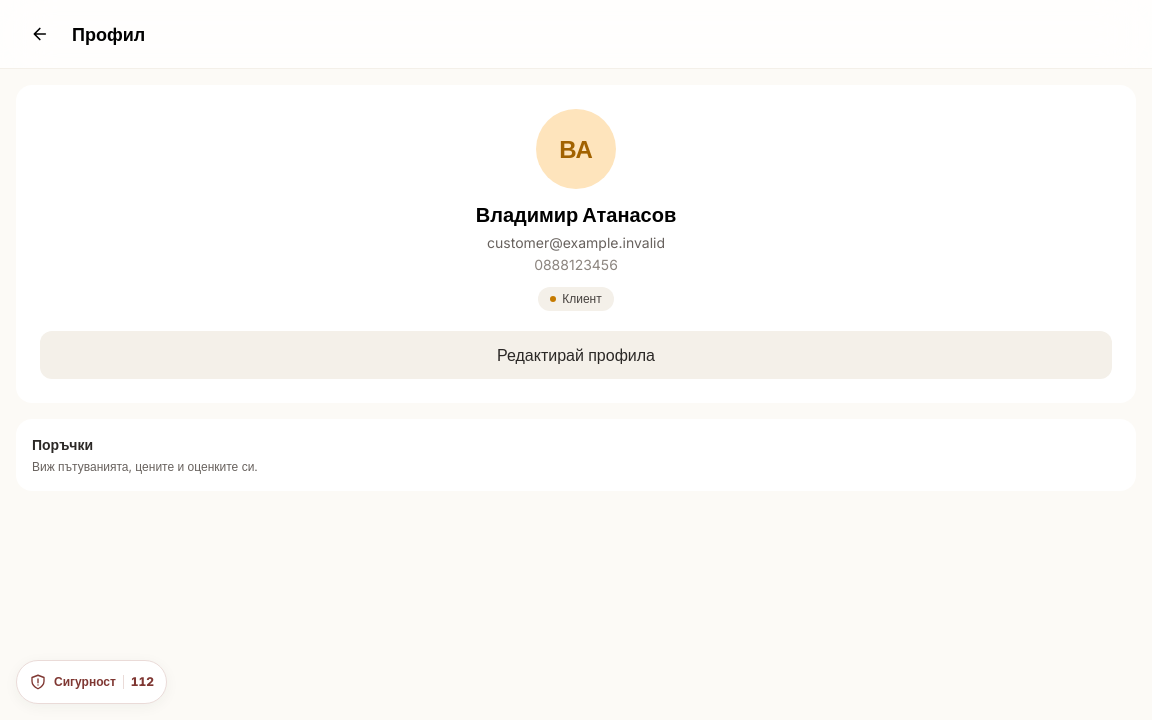
Test: discards cancelled edits and reopens the current saved profile
This screenshot has width=1152, height=720.
Click the button "Редактирай профила" at (576, 355), box [40,331,1112,379]
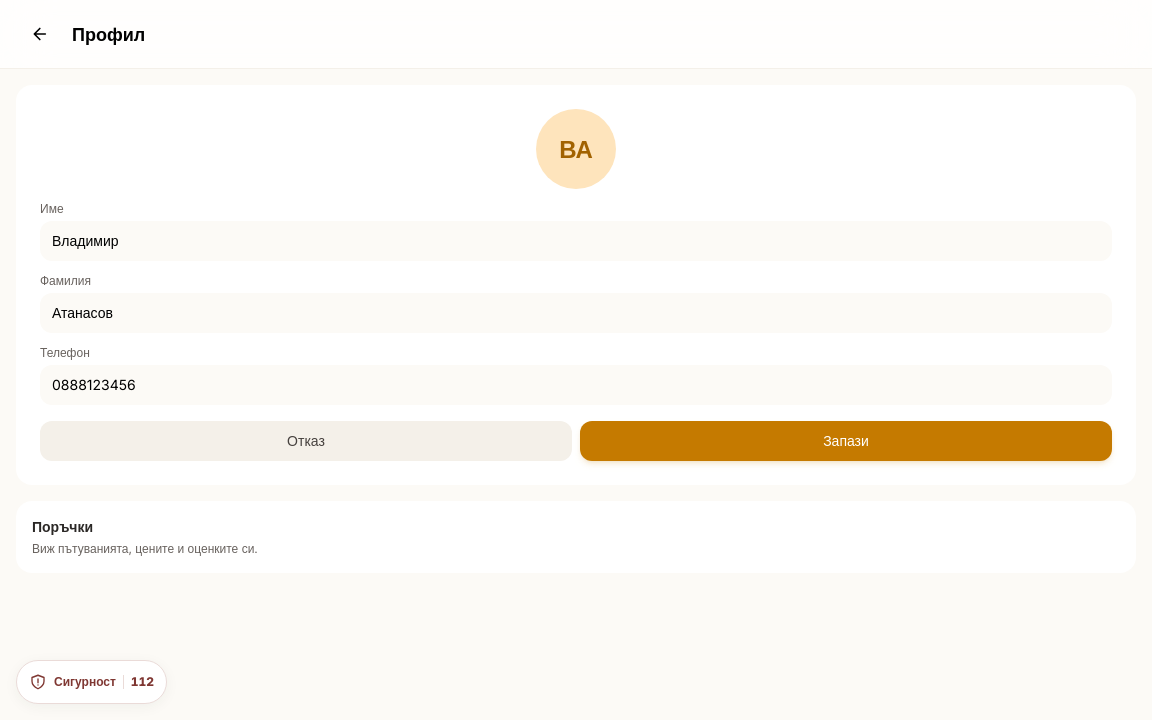
Replace the text in the field labelled "Име" with "Незапазено" at (576, 241), box [40,221,1112,261]
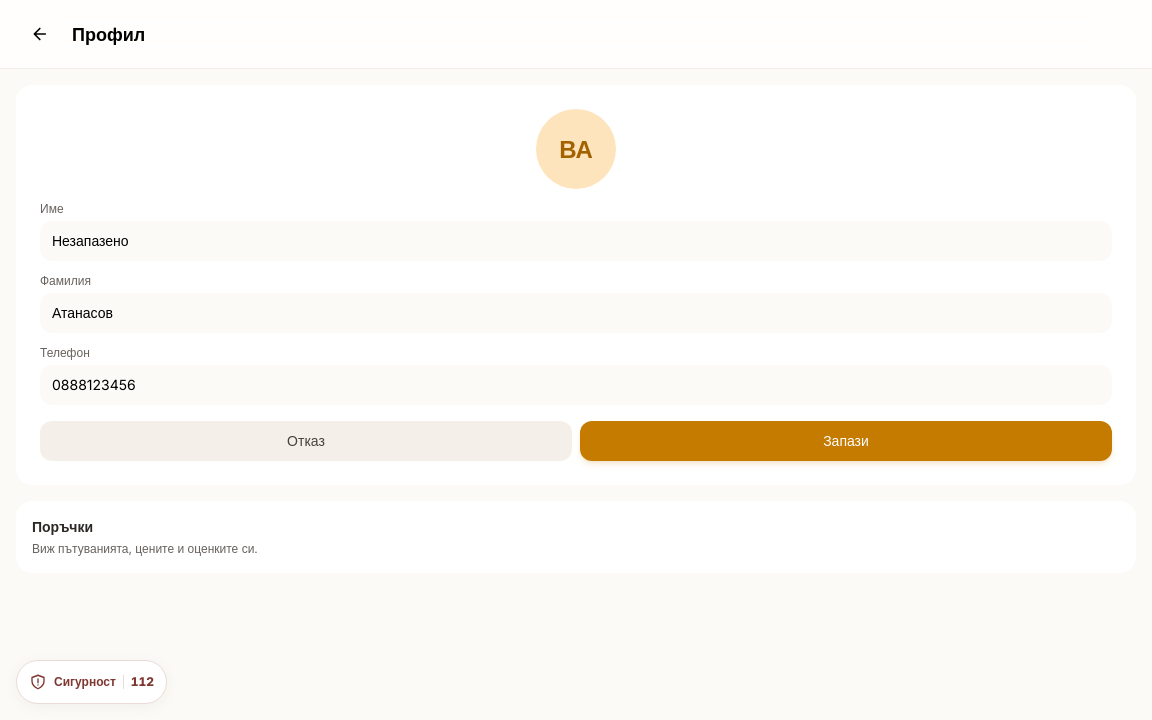
Click the button "Отказ" at (306, 441), box [40,421,572,461]
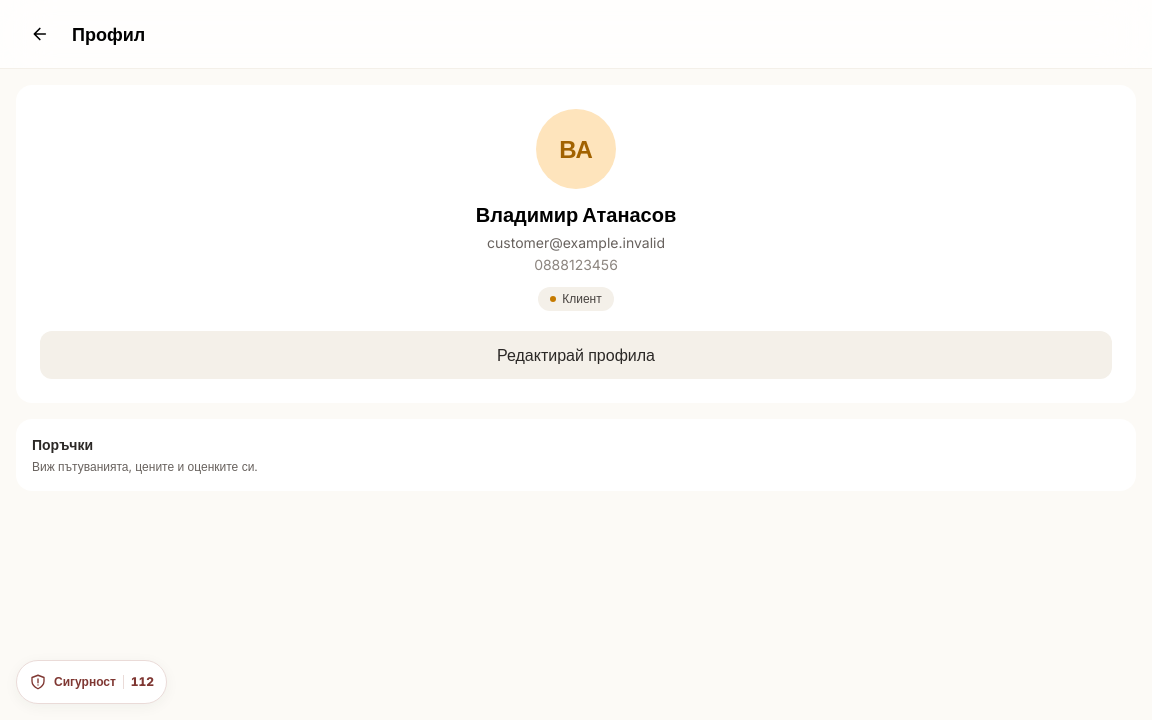
Click the button "Редактирай профила" at (576, 355), box [40,331,1112,379]
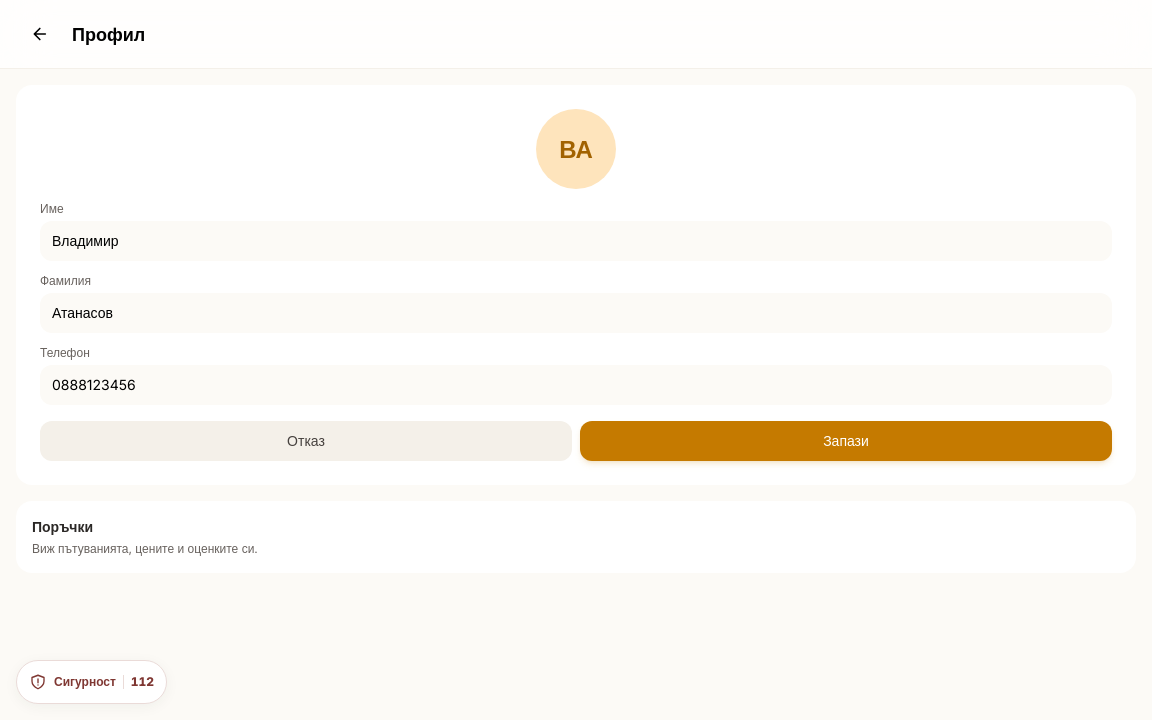
Check: the field labelled "Име" holds "Владимир", box [40,221,1112,261]
